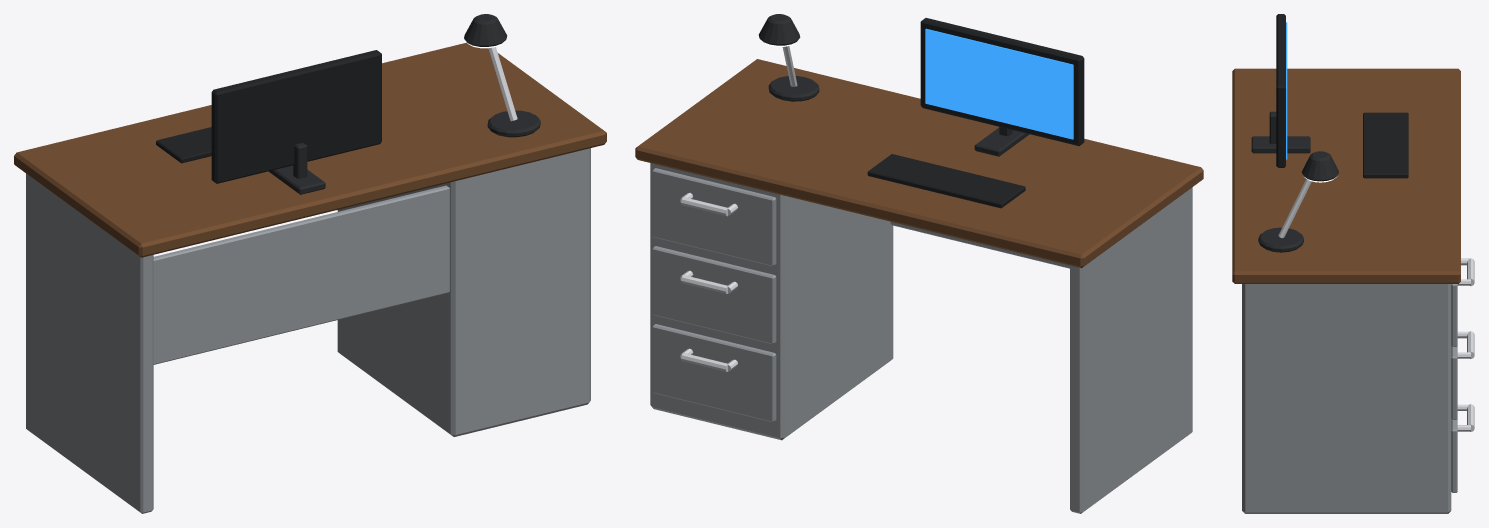
Rendered from desk.glb.
3 views of the same model, side by side, from view 1: azimuth 30°, elevation 25°; view 2: azimuth 150°, elevation 25°; view 3: azimuth 270°, elevation 25° (orthographic). The views are drawn at different scales.
Visible parts, largest first — view 1: desk; view 2: desk; view 3: desk.
Part boxes in pixels (<box>): desk: <box>14,14,606,513</box>; desk: <box>635,14,1203,513</box>; desk: <box>1232,14,1474,513</box>.
Size of the model in its own units: 1.4 by 1.1 by 0.7.
